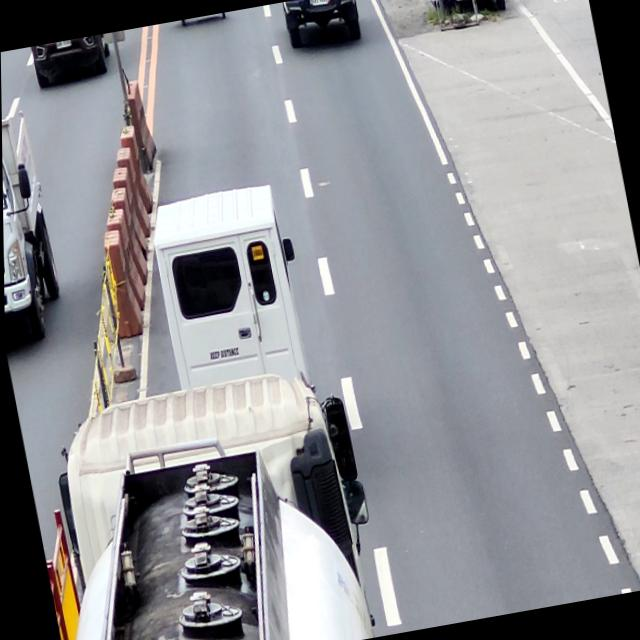Car: (143, 178, 319, 408)
Truck: (16, 360, 389, 640)
